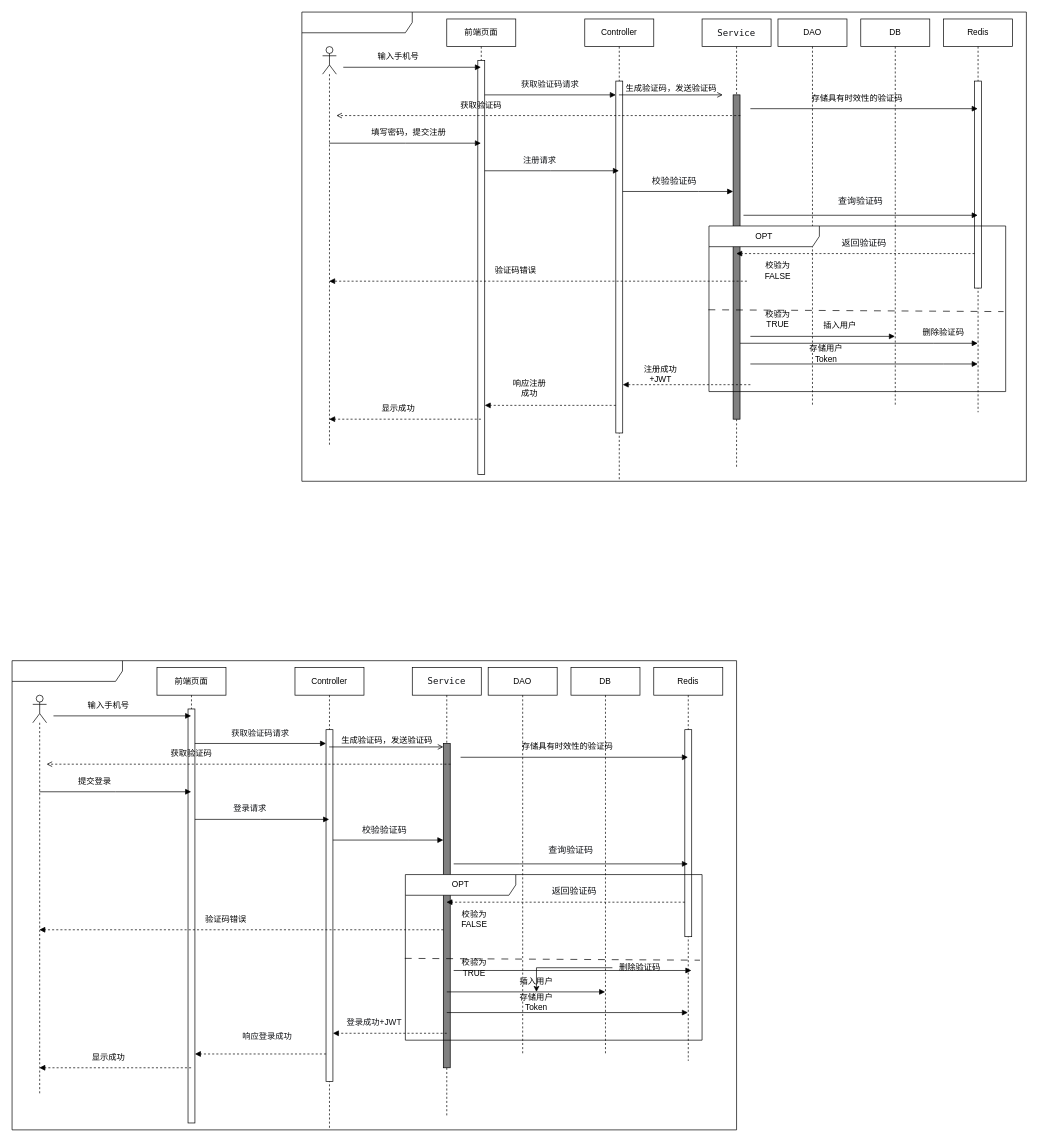
The diagram is 1038 pixels wide and 1142 high, and some of its shapes have lost their labels. Here are the shapes that lost their labels. From the top down, the box of each, then its label:
(301, 11, 1026, 481): 注册流程
(11, 660, 737, 1130): 登录流程
